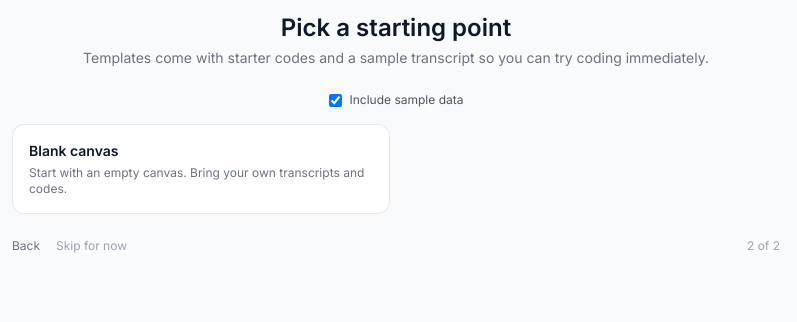
Scenario: real onboarding screens › handles a rejected selection with an actionable inline error
Click the button "Blank canvas".
click(201, 169)  # box [12, 124, 390, 214]
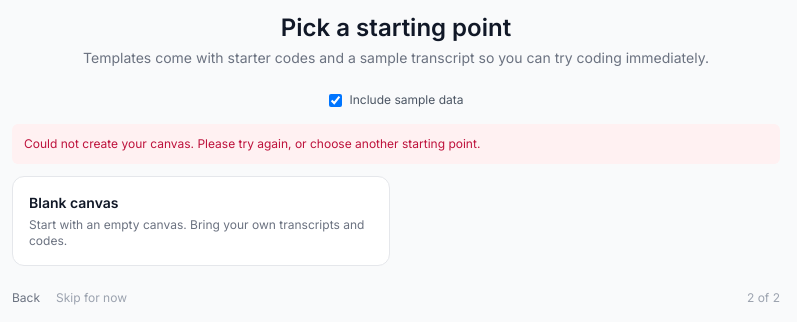
Expected: the button "Blank canvas" is enabled, [12, 176, 390, 266]
Expected: the message shows "try again", [24, 136, 480, 151]
